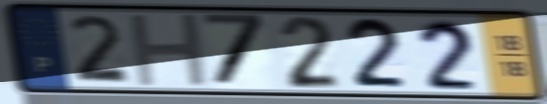2: (344, 13, 417, 95), (415, 15, 488, 95), (277, 14, 343, 91), (71, 13, 134, 86)
7: (199, 12, 270, 92)
H: (125, 11, 214, 90)
